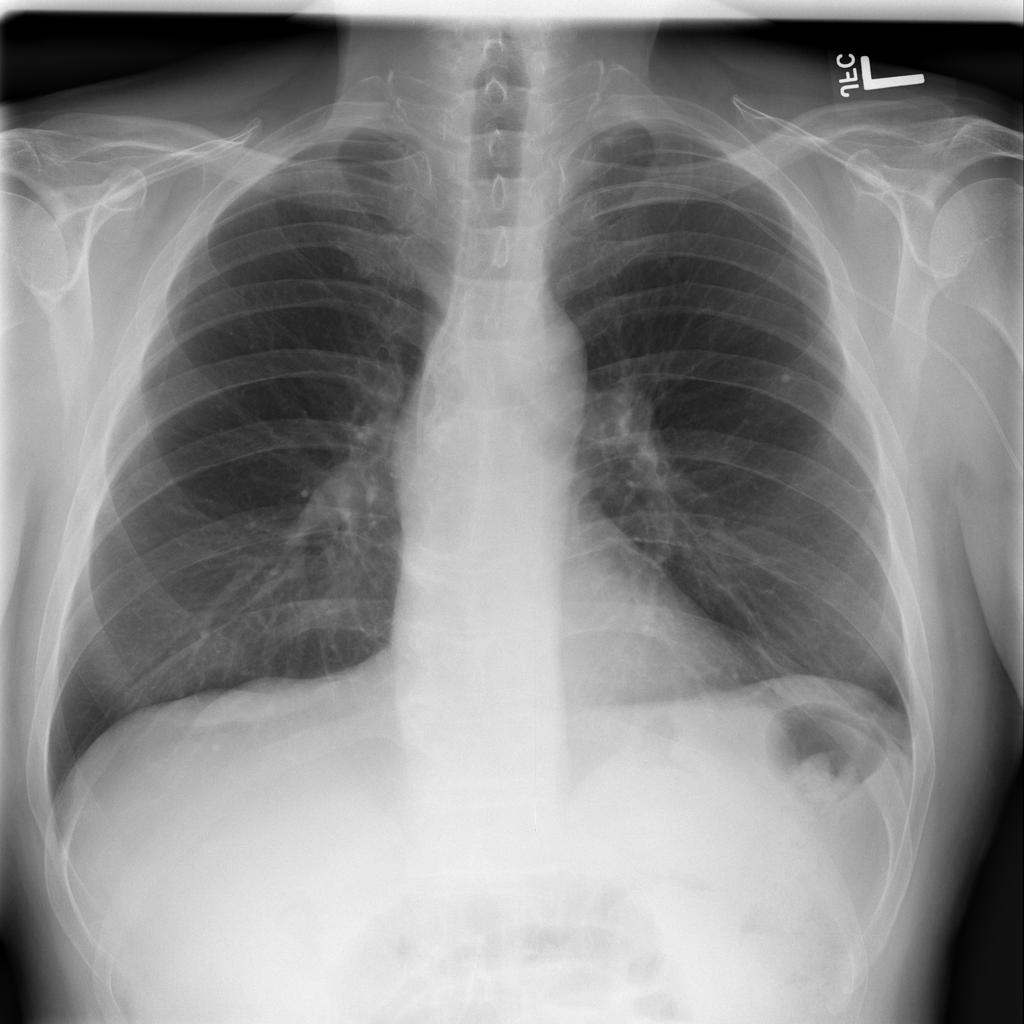nodule: (755, 347, 825, 417)
